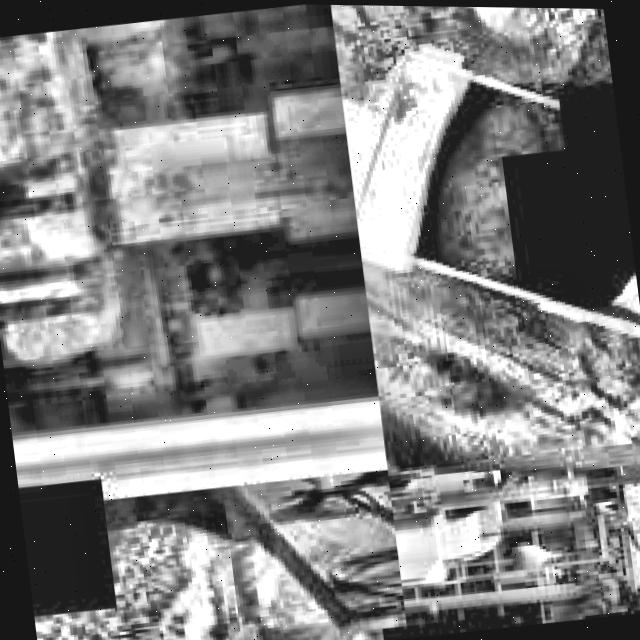dump_truck: (334, 7, 640, 382)
